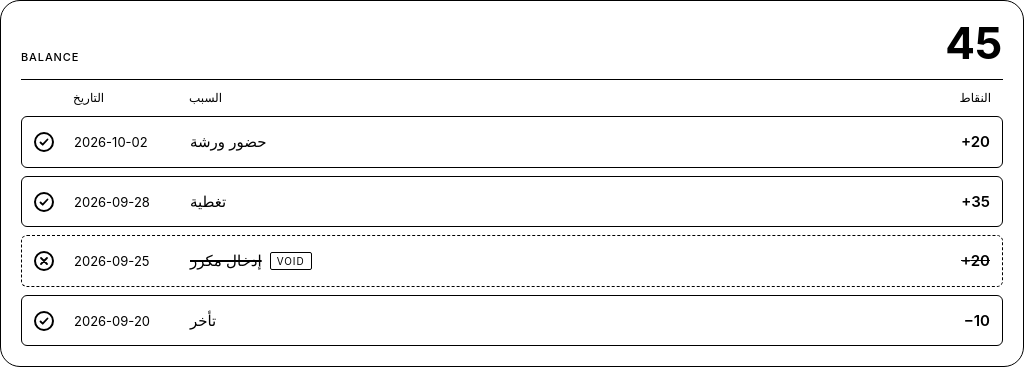
Test: PointsLedger › puts a restored cancelled row back into the balance
The image size is (1024, 387).
Click the button "2026-09-25 إدخال مكرر VOID +20" at (112, 261), box [21,235,1003,287]
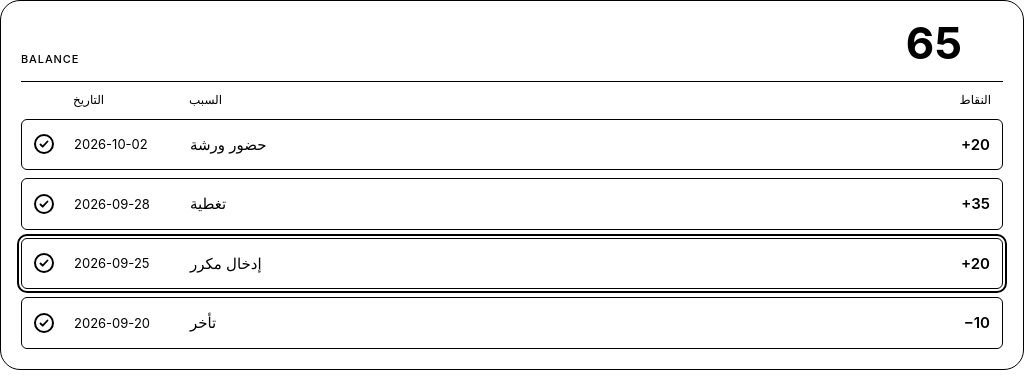
expect the text with test id "ledger-balance" reads "65": met, box [906,16,963,70]
